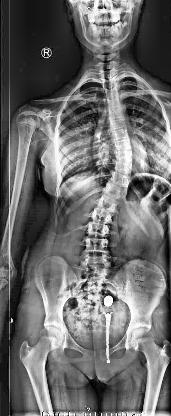Vertebrae: (82, 250, 112, 270), (84, 235, 112, 254), (103, 180, 127, 202), (86, 220, 113, 238), (96, 195, 120, 215), (91, 208, 116, 226), (109, 172, 133, 190), (113, 158, 133, 176), (113, 149, 135, 165), (105, 106, 127, 120), (108, 116, 130, 130), (110, 128, 132, 142), (113, 139, 135, 153), (103, 96, 123, 110), (100, 77, 120, 89), (102, 88, 120, 100)
